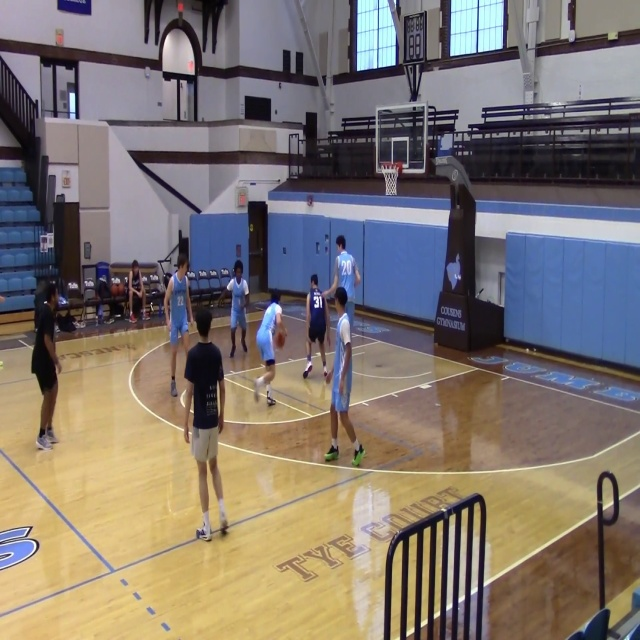Basketball: (274, 331, 285, 348), (110, 283, 124, 295), (0, 360, 3, 370)
